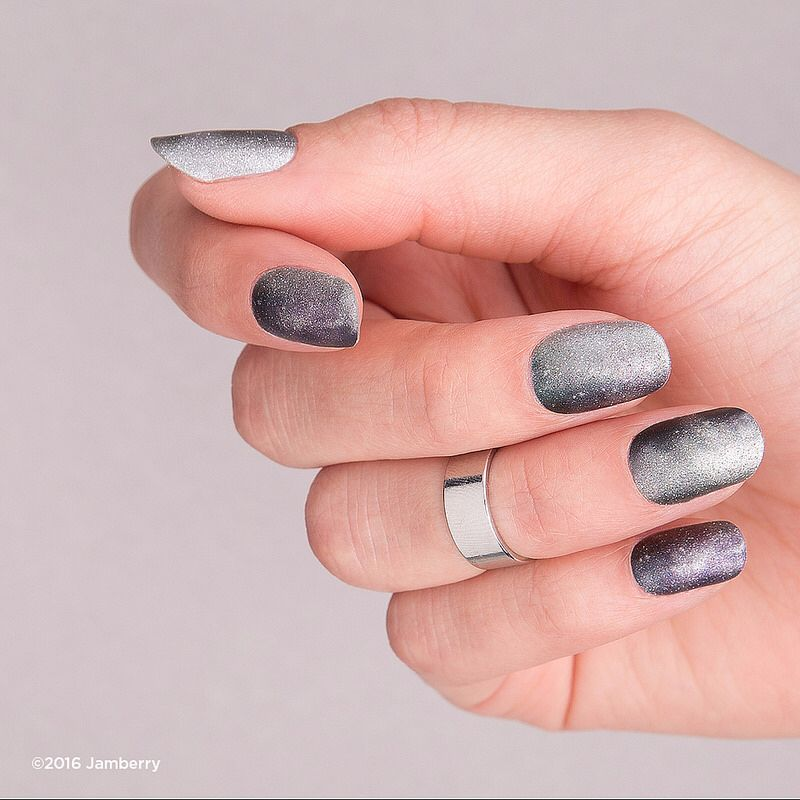nails: (527, 311, 674, 419), (627, 406, 769, 507), (248, 253, 368, 352), (629, 515, 752, 600), (148, 121, 304, 186)
